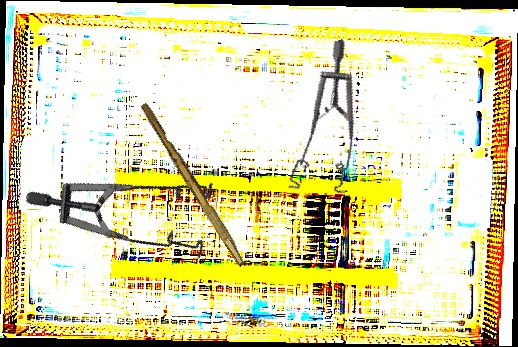Scalpel Handle: (136, 101, 251, 268)
Speculum: (21, 94, 243, 312), (248, 38, 392, 210)
